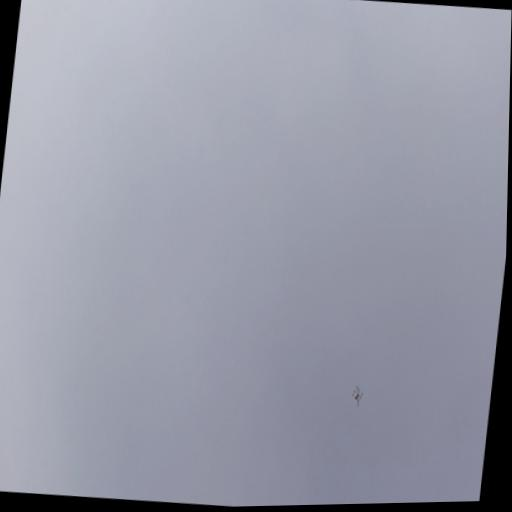drones: (350, 384, 365, 409)
